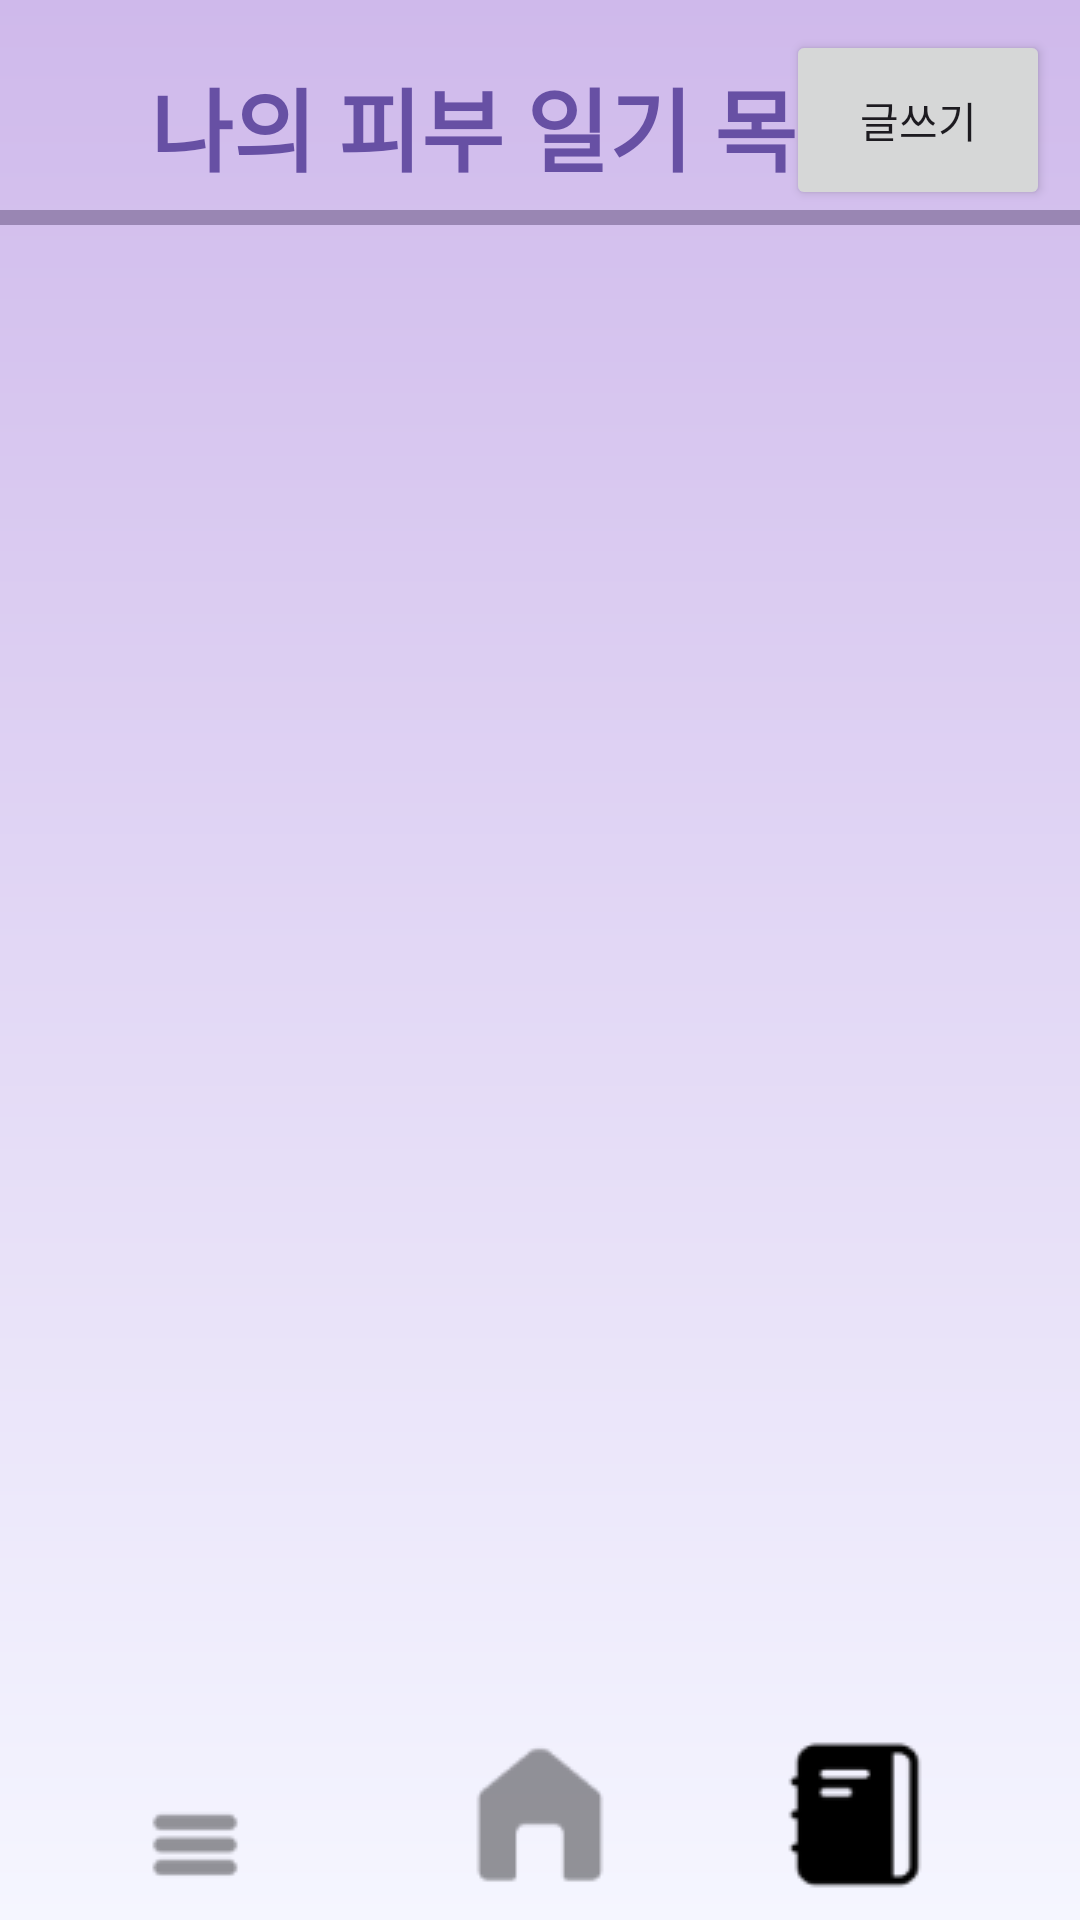

Where icons sit on this 1080px x 1920px app screen, as bbox=[x1, y1, x2, y2]:
category: bbox=[152, 1814, 238, 1876]
diary: bbox=[789, 1742, 921, 1887]
home: bbox=[477, 1748, 602, 1882]
